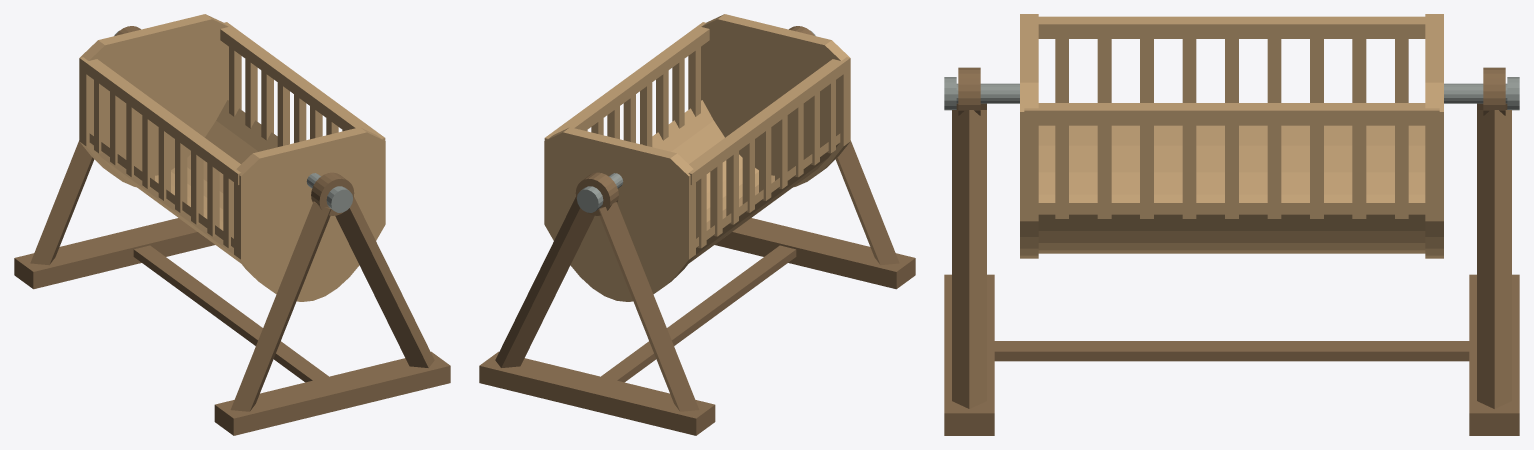
3 views of the same model, side by side, from view 1: azimuth 30°, elevation 25°; view 2: azimuth 150°, elevation 25°; view 3: azimuth 270°, elevation 25° (orthographic). The views are drawn at different scales.
Parts seen in each view (by area): view 1: HeadWholeSolidShapedEndBoard, FootWholeSolidShapedEndBoard, HeadWholeGroundCrossFoot, FootWholeGroundCrossFoot, WholeContinuousCurvedCradleFloor, HeadLeftWholeSplayedTrestleLeg, HeadRightWholeSplayedTrestleLeg, WholeLongLowerFrameTie, LeftWholeUpperSideRail, RightWholeUpperSideRail, FootLeftWholeSplayedTrestleLeg, LeftWholeSideSlat4 (+15 smaller); view 2: FootWholeSolidShapedEndBoard, HeadWholeSolidShapedEndBoard, FootWholeGroundCrossFoot, HeadWholeGroundCrossFoot, WholeContinuousCurvedCradleFloor, FootLeftWholeSplayedTrestleLeg, FootRightWholeSplayedTrestleLeg, WholeLongLowerFrameTie, LeftWholeUpperSideRail, RightWholeUpperSideRail, HeadLeftWholeSplayedTrestleLeg, LeftWholeSideSlat4 (+15 smaller); view 3: WholeContinuousCurvedCradleFloor, HeadRightWholeSplayedTrestleLeg, FootRightWholeSplayedTrestleLeg, WholeLongLowerFrameTie, RightWholeUpperSideRail, LeftWholeUpperSideRail, HeadWholeSolidShapedEndBoard, FootWholeSolidShapedEndBoard, HeadWholeGroundCrossFoot, FootWholeGroundCrossFoot, RightWholeSideSlat1, RightWholeSideSlat7 (+20 smaller).
Part boxes in pixels (<box>): HeadWholeSolidShapedEndBoard: <box>234,127,385,301</box>; FootWholeSolidShapedEndBoard: <box>79,14,228,187</box>; HeadWholeGroundCrossFoot: <box>214,351,450,435</box>; FootWholeGroundCrossFoot: <box>14,218,214,289</box>; WholeContinuousCurvedCradleFloor: <box>89,100,288,263</box>; HeadLeftWholeSplayedTrestleLeg: <box>230,201,331,411</box>; HeadRightWholeSplayedTrestleLeg: <box>335,197,434,367</box>; WholeLongLowerFrameTie: <box>133,245,328,382</box>; LeftWholeUpperSideRail: <box>79,57,241,184</box>; RightWholeUpperSideRail: <box>220,22,385,140</box>; FootLeftWholeSplayedTrestleLeg: <box>30,140,94,265</box>; LeftWholeSideSlat4: <box>158,127,170,200</box>; FootWholeSolidShapedEndBoard: <box>544,127,695,301</box>; HeadWholeSolidShapedEndBoard: <box>701,14,850,187</box>; FootWholeGroundCrossFoot: <box>479,351,715,435</box>; HeadWholeGroundCrossFoot: <box>715,218,915,289</box>; WholeContinuousCurvedCradleFloor: <box>641,100,840,263</box>; FootLeftWholeSplayedTrestleLeg: <box>598,201,699,411</box>; FootRightWholeSplayedTrestleLeg: <box>495,197,594,367</box>; WholeLongLowerFrameTie: <box>601,245,796,382</box>; LeftWholeUpperSideRail: <box>688,57,850,184</box>; RightWholeUpperSideRail: <box>544,22,709,140</box>; HeadLeftWholeSplayedTrestleLeg: <box>835,140,899,265</box>; LeftWholeSideSlat4: <box>759,127,771,200</box>; WholeContinuousCurvedCradleFloor: <box>1038,125,1425,253</box>; HeadRightWholeSplayedTrestleLeg: <box>952,110,986,408</box>; FootRightWholeSplayedTrestleLeg: <box>1477,110,1511,408</box>; WholeLongLowerFrameTie: <box>994,341,1469,361</box>; RightWholeUpperSideRail: <box>1024,103,1439,125</box>; LeftWholeUpperSideRail: <box>1038,16,1425,38</box>; HeadWholeSolidShapedEndBoard: <box>1020,14,1038,258</box>; FootWholeSolidShapedEndBoard: <box>1425,14,1443,258</box>; HeadWholeGroundCrossFoot: <box>944,274,994,435</box>; FootWholeGroundCrossFoot: <box>1469,274,1519,435</box>; RightWholeSideSlat1: <box>1097,125,1111,218</box>; RightWholeSideSlat7: <box>1352,125,1366,218</box>.
Bounding box in the file's own units: 0.85 × 0.91 × 1.49.
